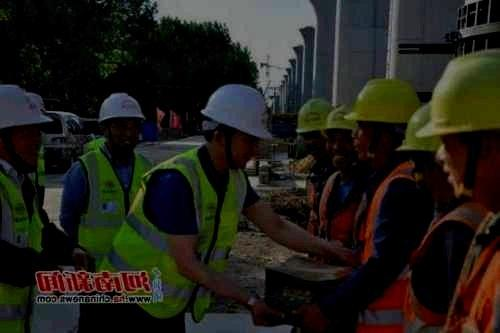helmet: (415, 49, 500, 202), (344, 77, 422, 160), (200, 83, 274, 170), (395, 100, 446, 200), (1, 84, 53, 173), (97, 92, 146, 152), (296, 97, 336, 153), (320, 103, 355, 162)
